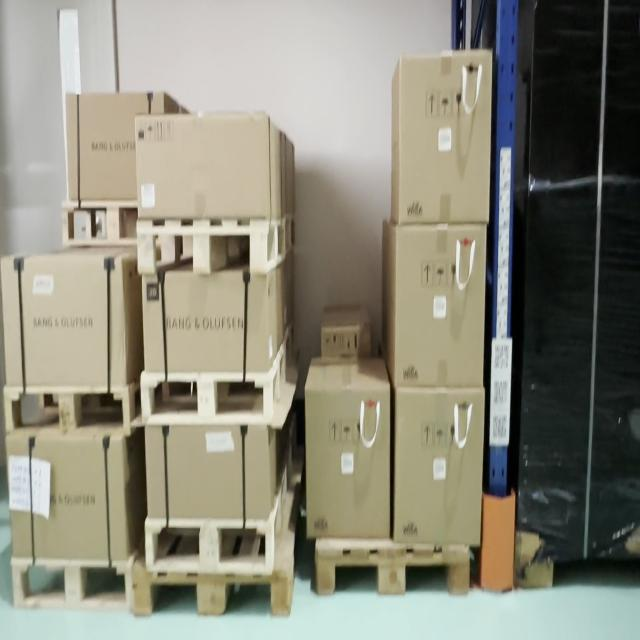box: (517, 0, 640, 533), (1, 259, 126, 385), (395, 227, 485, 386), (402, 56, 488, 221), (139, 114, 268, 218), (396, 392, 479, 544), (13, 442, 121, 558), (307, 389, 390, 535), (143, 276, 267, 371), (148, 426, 267, 518), (66, 93, 164, 201)
